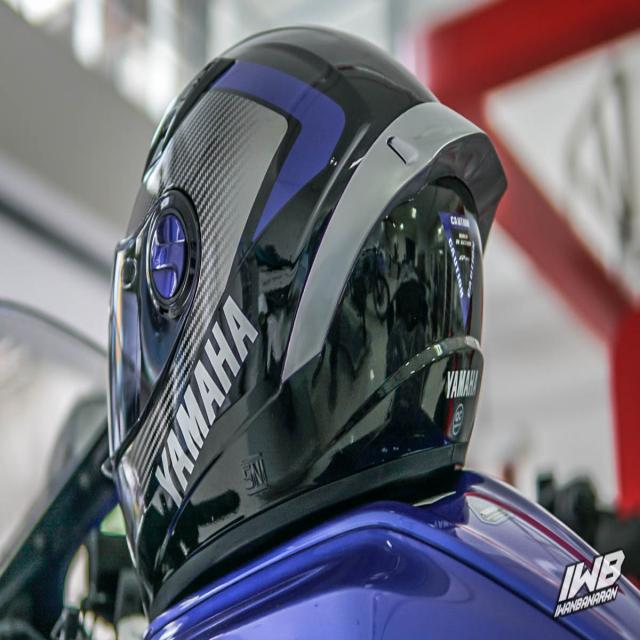Helm: (102, 23, 509, 623)
